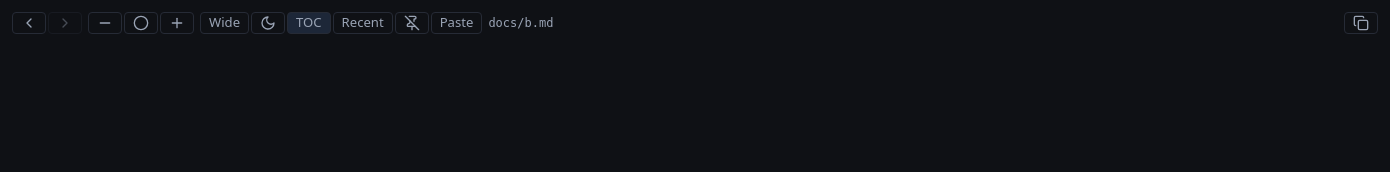
Test: Toolbar › the back button moves the active entry backwards
This screenshot has width=1390, height=172.
What coordinates should you click on to do the following:
click the button named "Back (Alt+←)"
I would click on:
 (29, 23)
Its box is left=12, top=12, right=46, bottom=34.
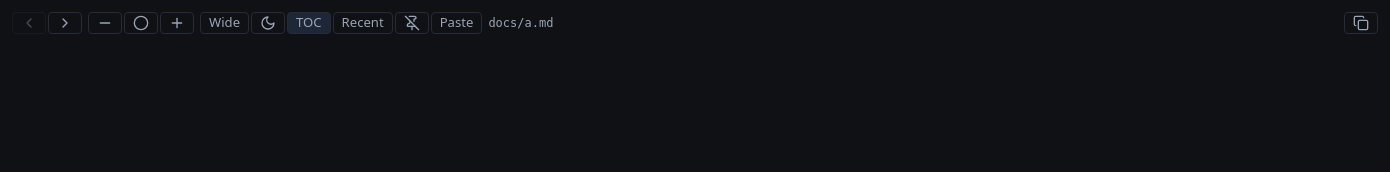
Result: the text "docs/a.md" is shown at left=488, top=16, right=553, bottom=30
